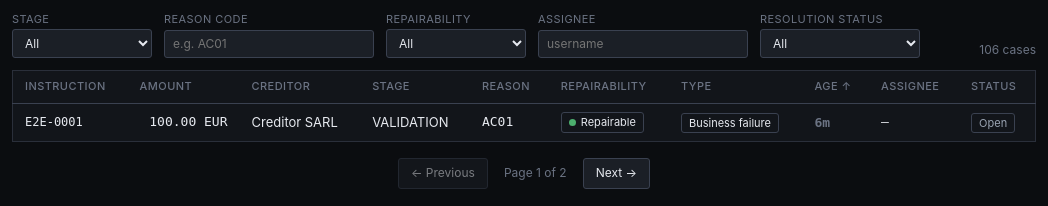
Test: ExceptionQueueScreen › resets to the first page when a filter changes
The width and height of the screenshot is (1048, 206).
Click the button "Next →": [616, 174] box [583,158,650,189]
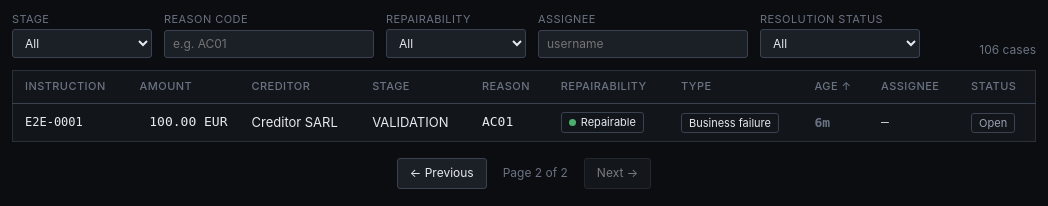
expect the text "Page 2 of 2" is shown: met, box [503,165,568,182]
In the field labelled "Reason code": [269, 44] box [164,30,374,58], type "AC01"
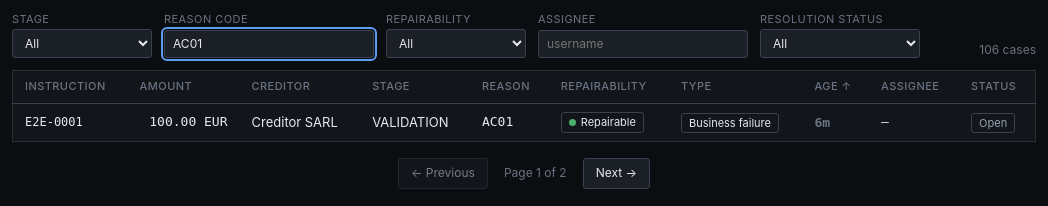
expect the text "Page 1 of 2" is shown: met, box [504,165,567,182]
